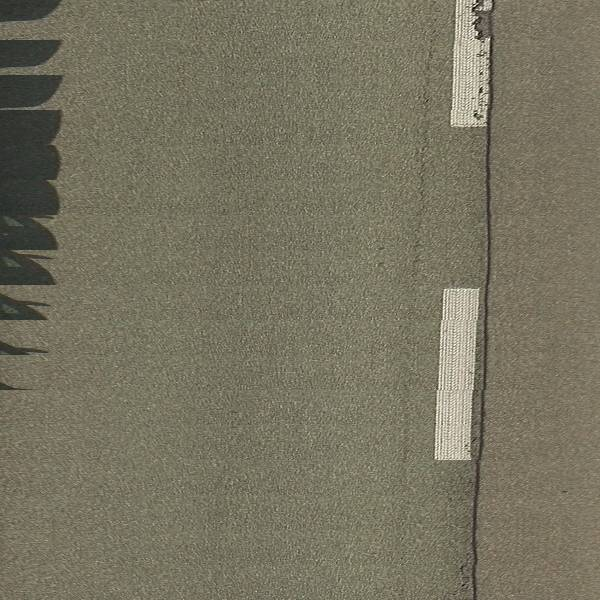road_damage: (469, 138, 494, 600), (405, 29, 441, 291), (469, 1, 496, 120)
